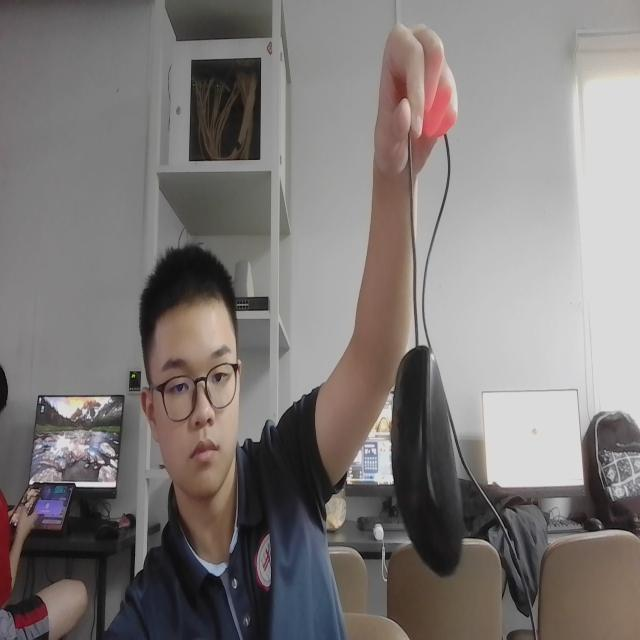mouse: (387, 337, 468, 592)
